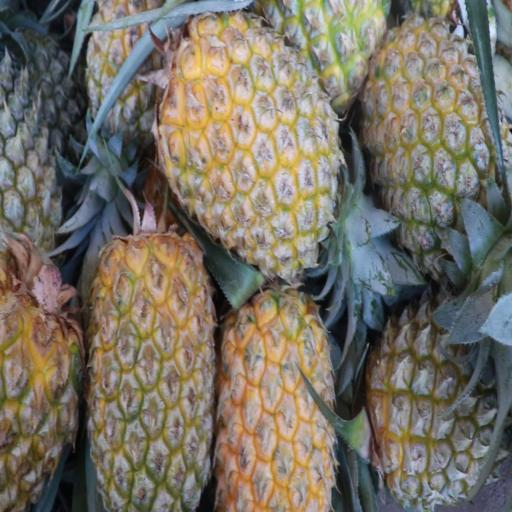------------------------------: (369, 16, 500, 270), (368, 283, 499, 503), (84, 0, 176, 149)
Pineapple - v8 v1: (165, 11, 330, 271), (88, 236, 210, 506), (219, 293, 328, 511), (0, 246, 85, 510), (267, 0, 389, 105)
